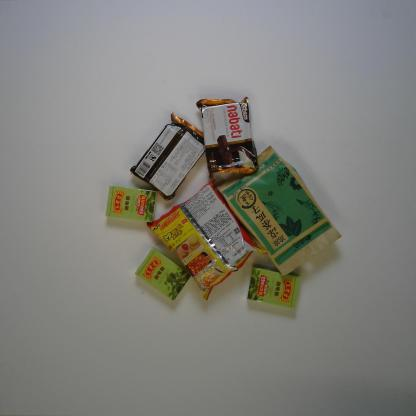Candy: (133, 246, 193, 302), (245, 265, 303, 311), (104, 184, 158, 223)
Dessert: (127, 110, 211, 202), (193, 94, 260, 176)
Dried Food: (212, 144, 342, 279)
Instant Noodles: (145, 179, 269, 299)
